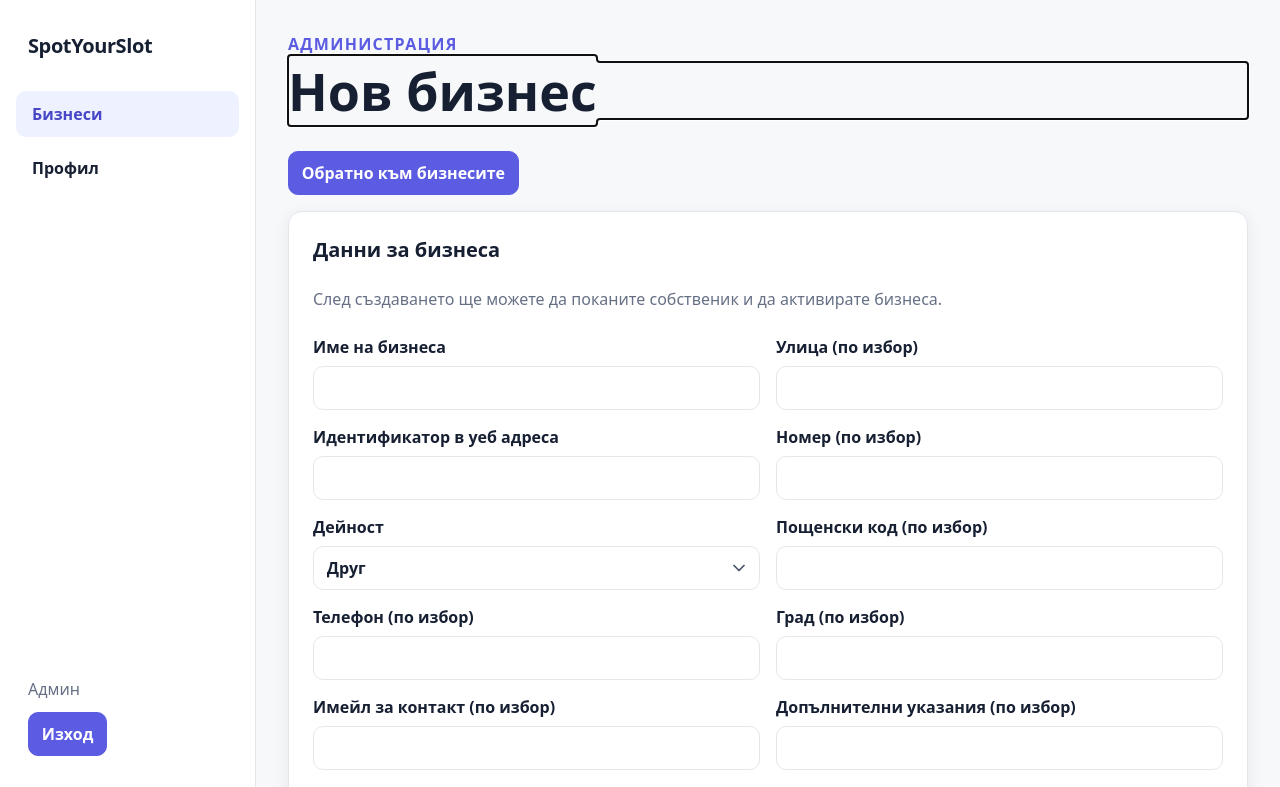
Scenario: platform Business create form and the shared guard › "Напусни" performs the original navigation exactly once
Type "Незапазено" into the field labelled "Име на бизнеса" at coordinates (536, 388), box top-left (313, 366), bottom-right (760, 410)
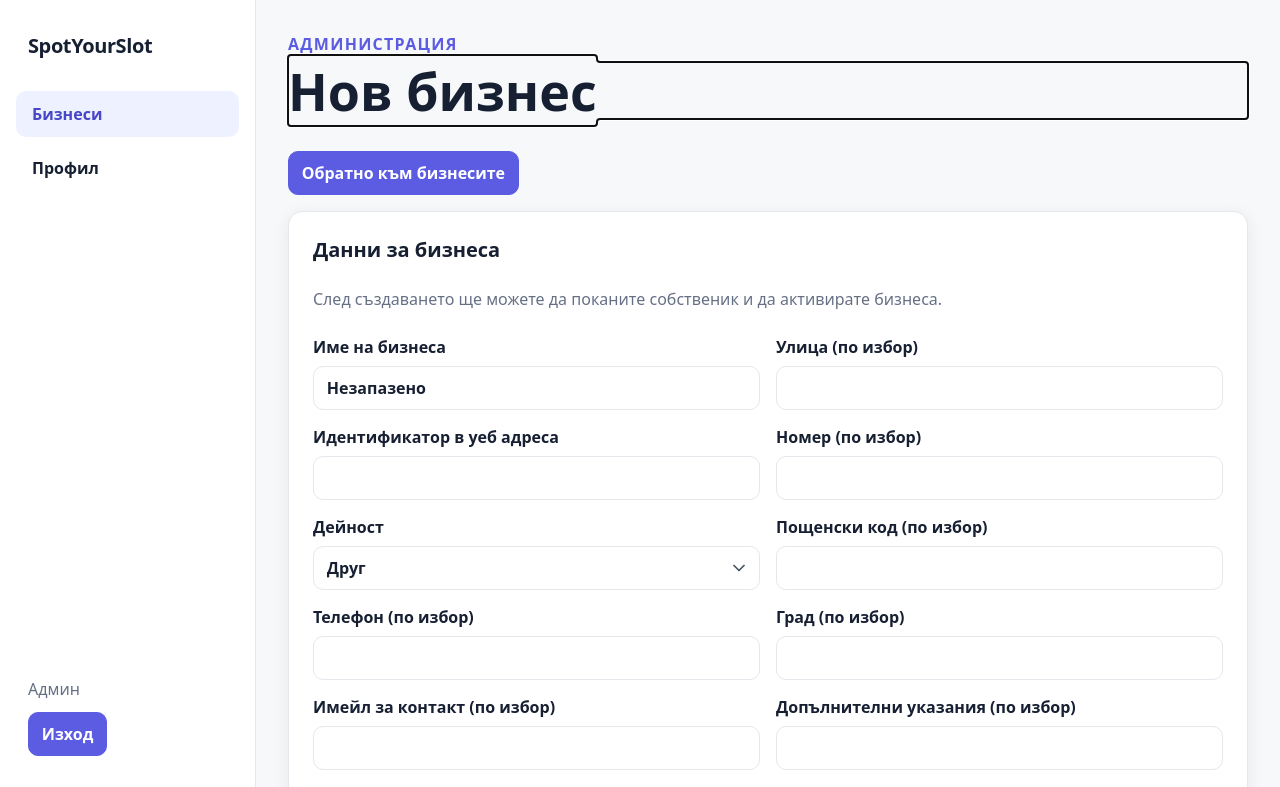
Click the link "Профил" at coordinates (65, 168), box top-left (32, 157), bottom-right (99, 179)
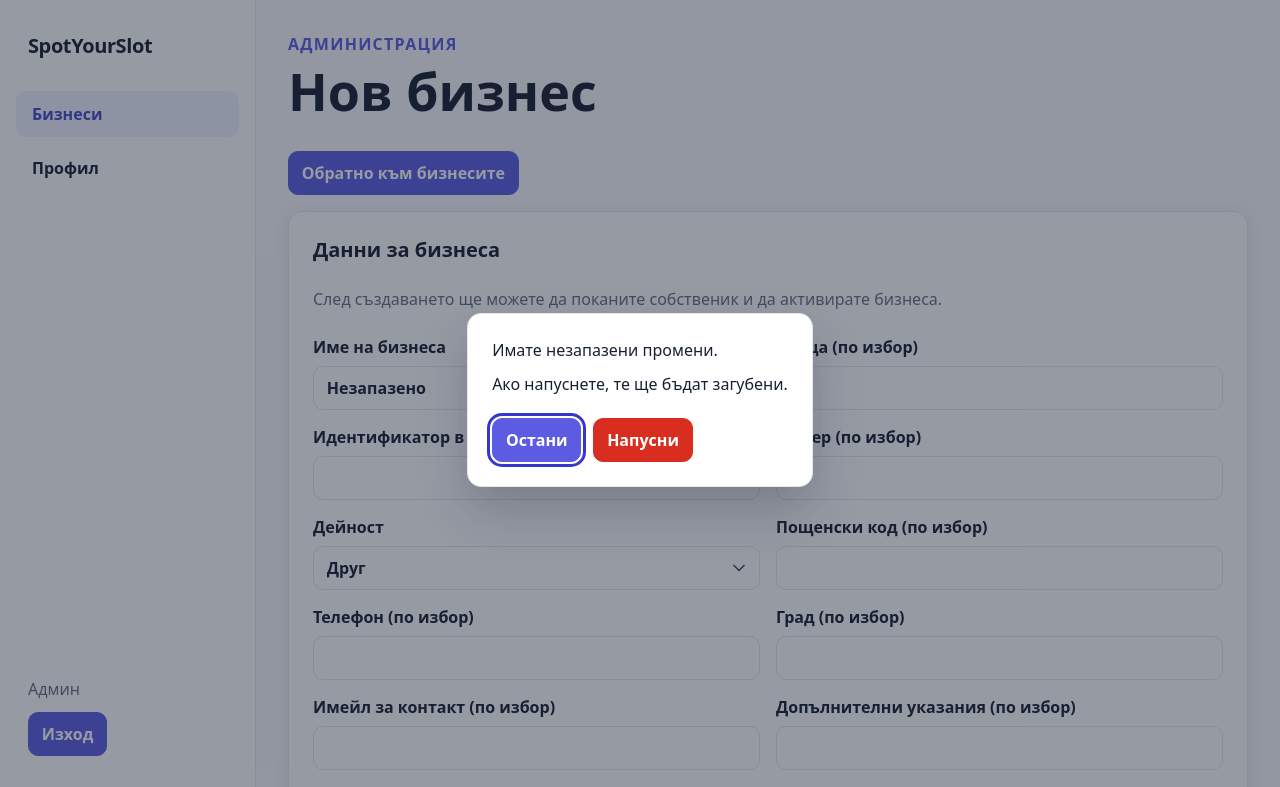
Click the button "Напусни" at coordinates (643, 440), box top-left (593, 418), bottom-right (693, 462)
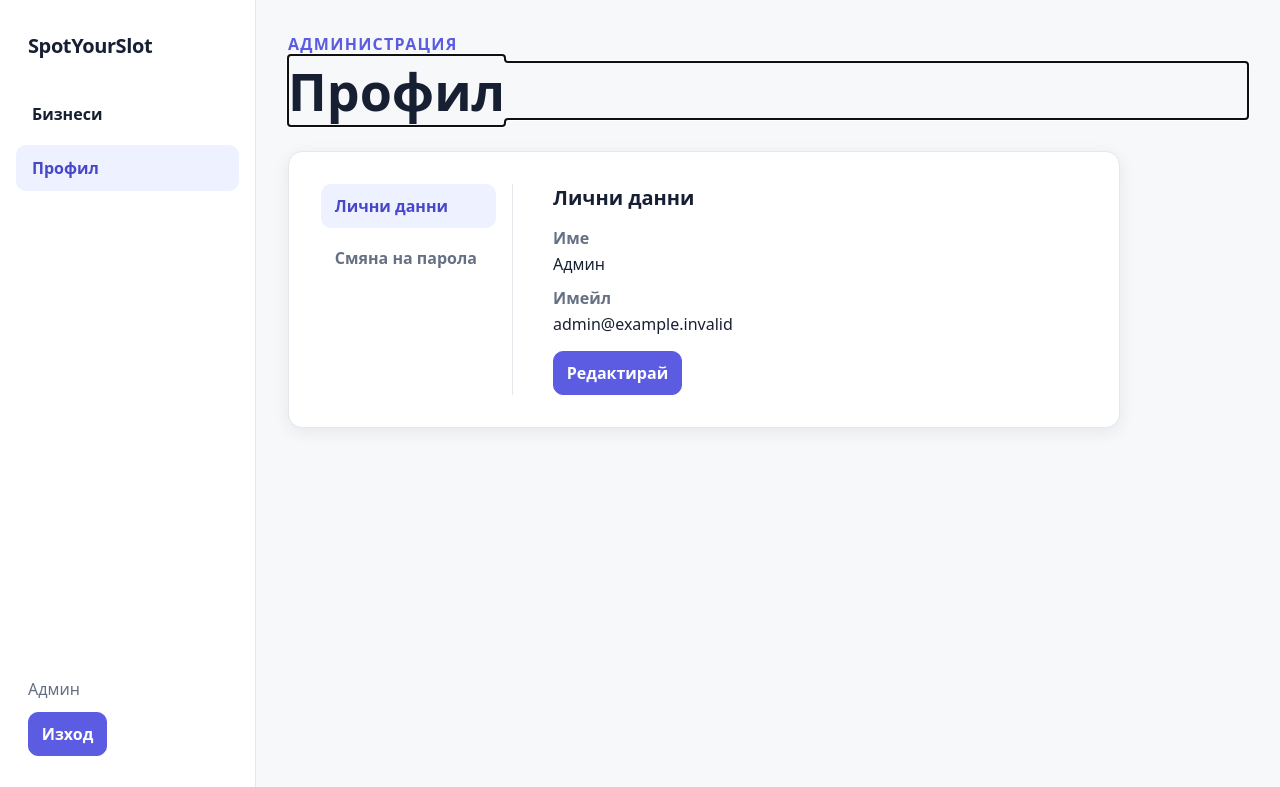
Expected: the heading "Профил" is shown, top-left (288, 55), bottom-right (505, 126)
Expected: the dialog is gone
